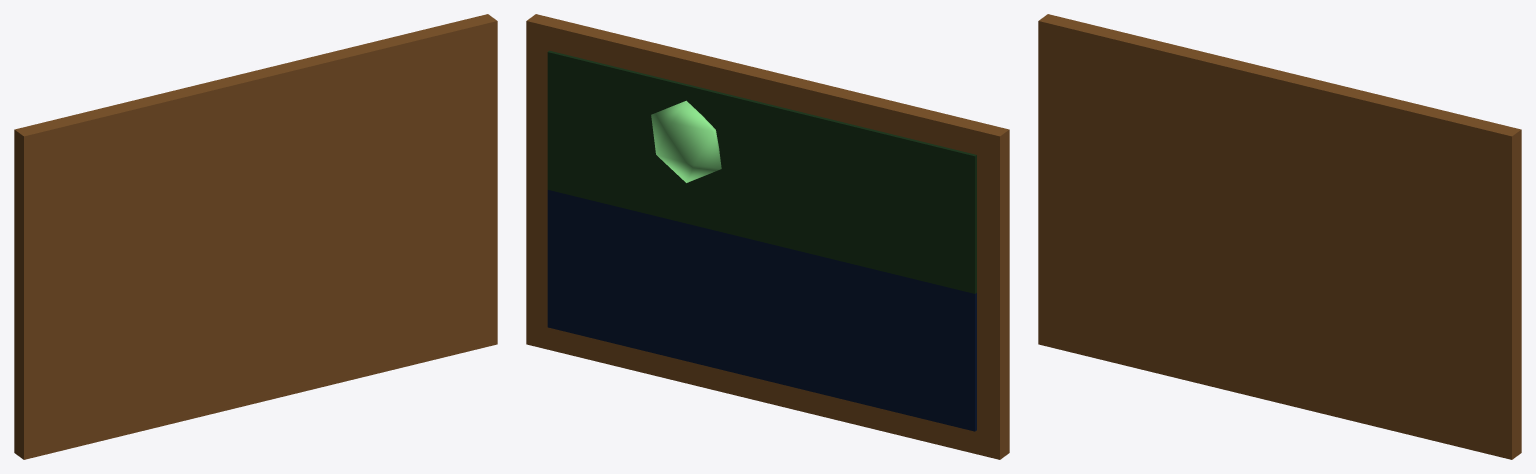
File: the_truth_is_up_there_v0.glb
3 views of the same model, side by side, from view 1: azimuth 30°, elevation 25°; view 2: azimuth 150°, elevation 25°; view 3: azimuth 330°, elevation 25° (orthographic).
Parts seen in each view (by area): view 1: the_truth_is_up_there_v0; view 2: the_truth_is_up_there_v0; view 3: the_truth_is_up_there_v0.
Boxes of the visible parts, <box> form: the_truth_is_up_there_v0: <box>14,14,497,459</box>; the_truth_is_up_there_v0: <box>526,14,1009,459</box>; the_truth_is_up_there_v0: <box>1038,14,1521,459</box>.
Bounding box in the file's own units: 1.44 × 0.94 × 0.0803.
